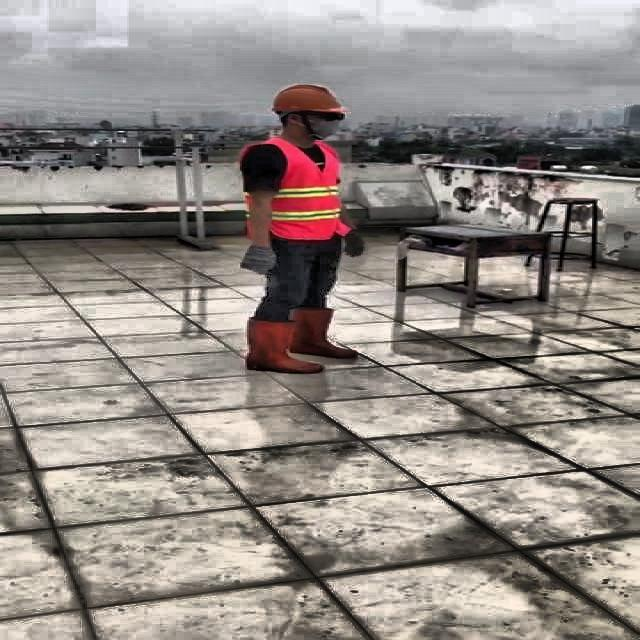safety_helmet: (268, 83, 350, 113)
safety_jacket: (242, 139, 356, 236)
